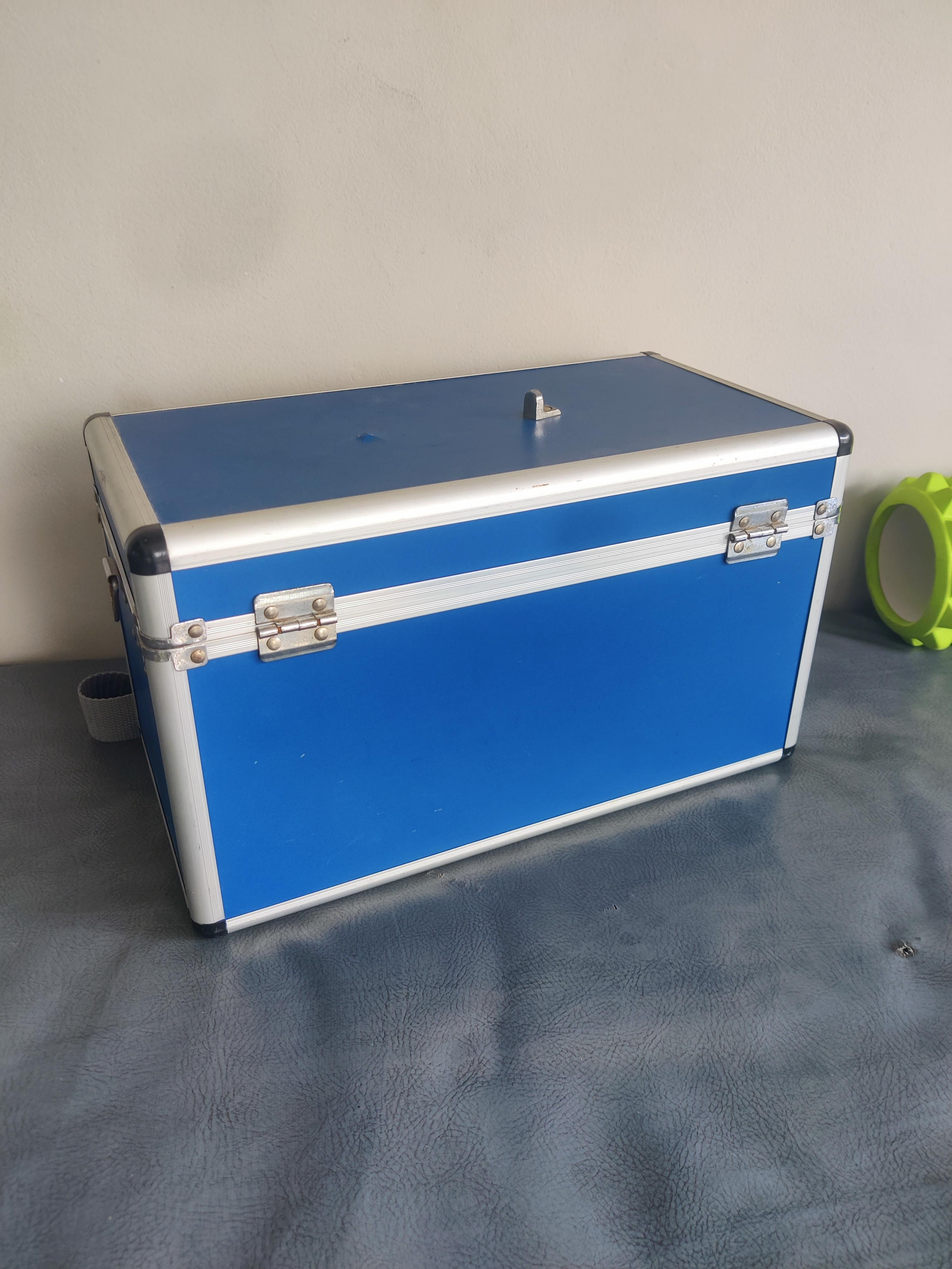FirstAidBox: (51, 333, 889, 971)
